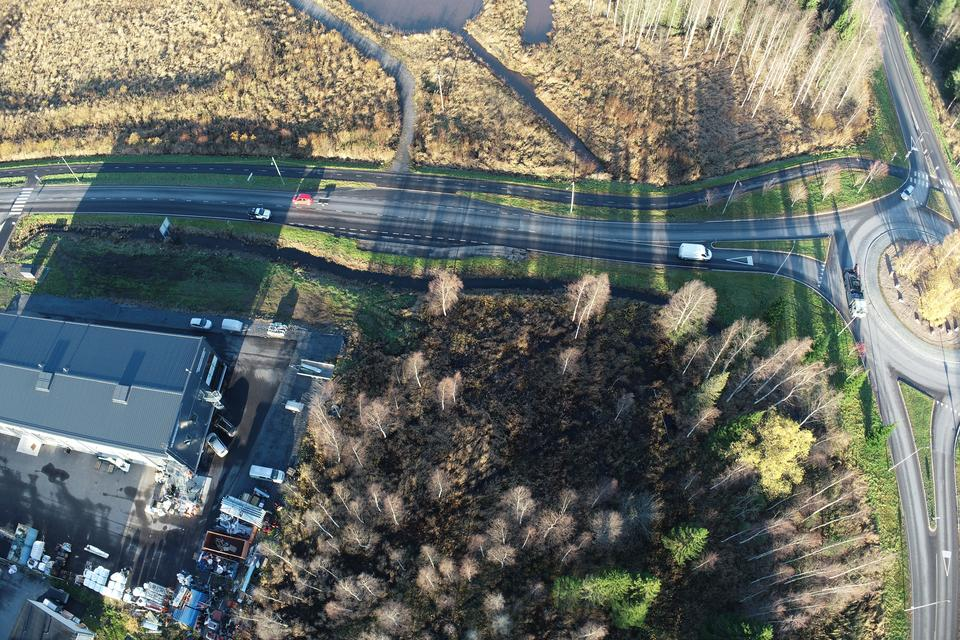intersection: (363, 145, 435, 267), (0, 150, 61, 264), (890, 156, 960, 196)
roundabout: (811, 199, 960, 435)
